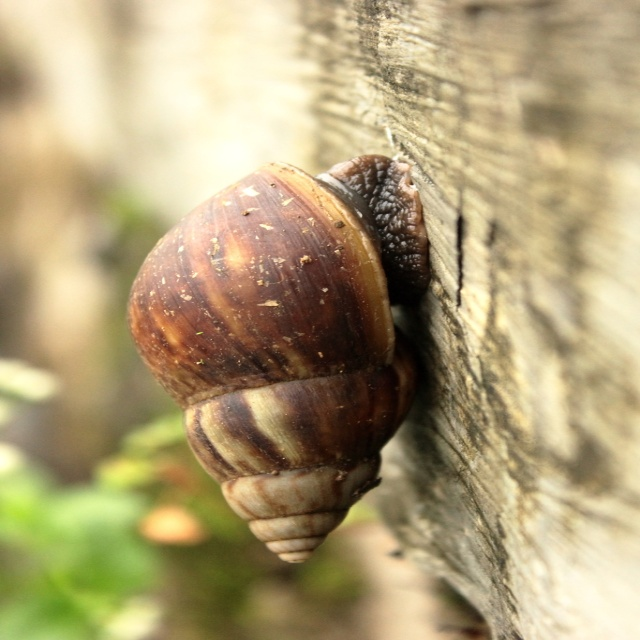Snail: (128, 153, 429, 568)
